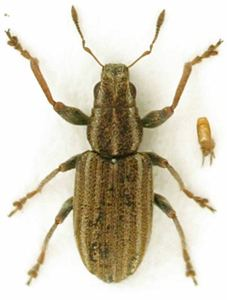dolgonosik: (4, 6, 227, 293)
